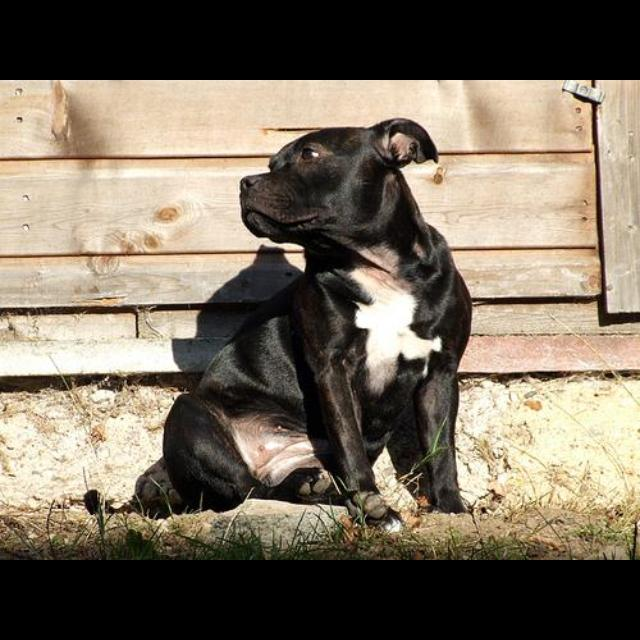staffford: (132, 117, 475, 535)
